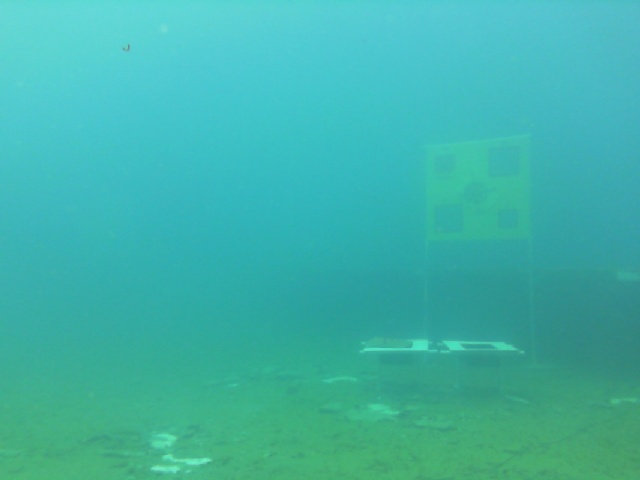torpedo_hole: (488, 147, 519, 177), (435, 204, 464, 231), (498, 209, 518, 230), (436, 152, 456, 173)
torpedo_target: (425, 136, 535, 242)
